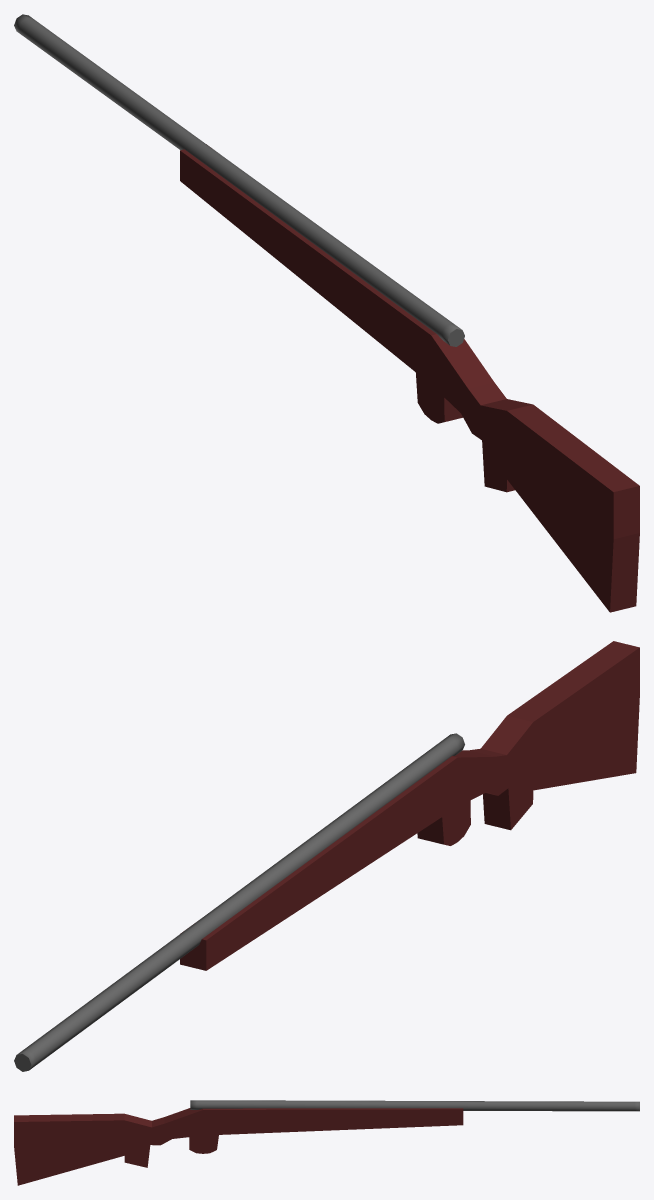
Rendered from BlockRifle_02.fbx.
3 renders of one model, top to bottom at view 1: azimuth 30°, elevation 25°; view 2: azimuth 150°, elevation 25°; view 3: azimuth 270°, elevation 25°, orthographic. The views are drawn at different scales.
Visible parts, largest first — view 1: Cube.001, Circle.002; view 2: Cube.001, Circle.002; view 3: Cube.001, Circle.002.
Boxes of the visible parts, <box> form: Cube.001: <box>180,144,639,612</box>; Circle.002: <box>14,14,464,346</box>; Cube.001: <box>180,641,639,970</box>; Circle.002: <box>14,733,464,1071</box>; Cube.001: <box>14,1108,463,1185</box>; Circle.002: <box>190,1100,639,1111</box>.
Bounding box in the file's own units: 6.46 × 37.2 × 257.
